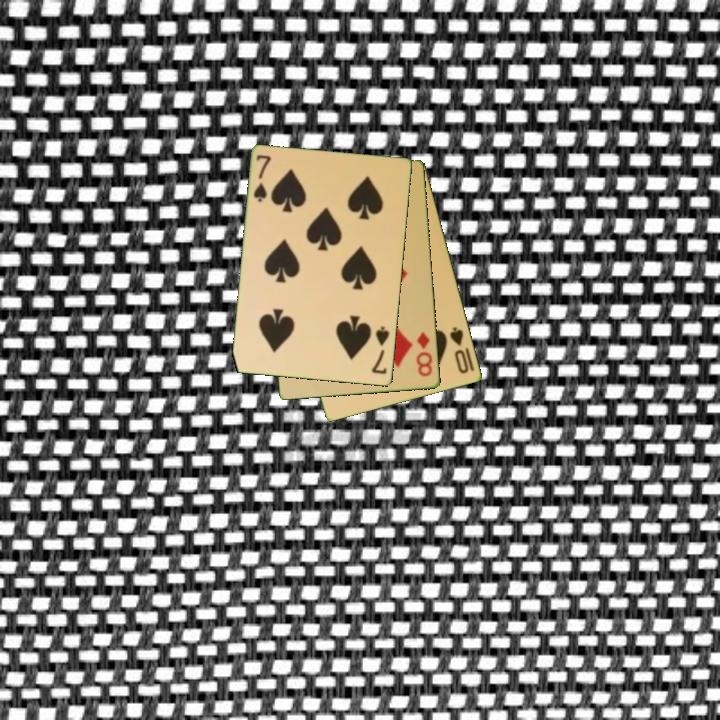10s: (447, 323, 472, 377)
7s: (368, 323, 392, 377), (250, 151, 274, 205)
8d: (413, 329, 435, 379)
